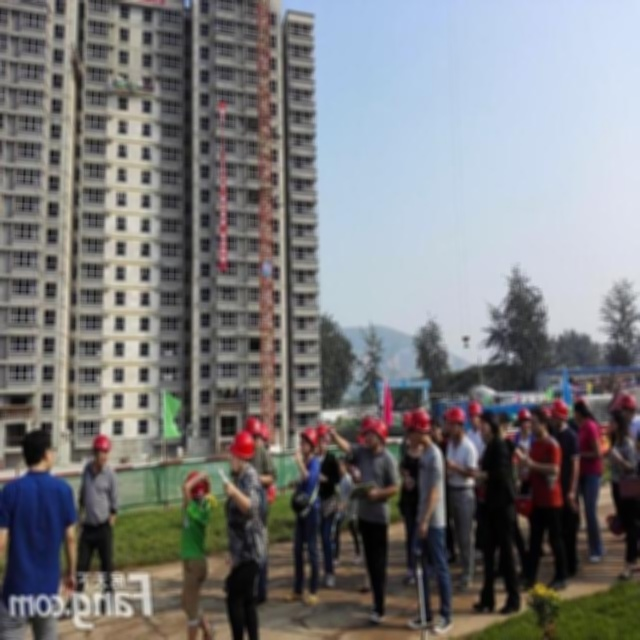Con_Casco: (228, 433, 254, 471), (409, 408, 429, 443), (93, 434, 110, 466)
Sin_Casco_Mascarrilla: (22, 429, 55, 473)
